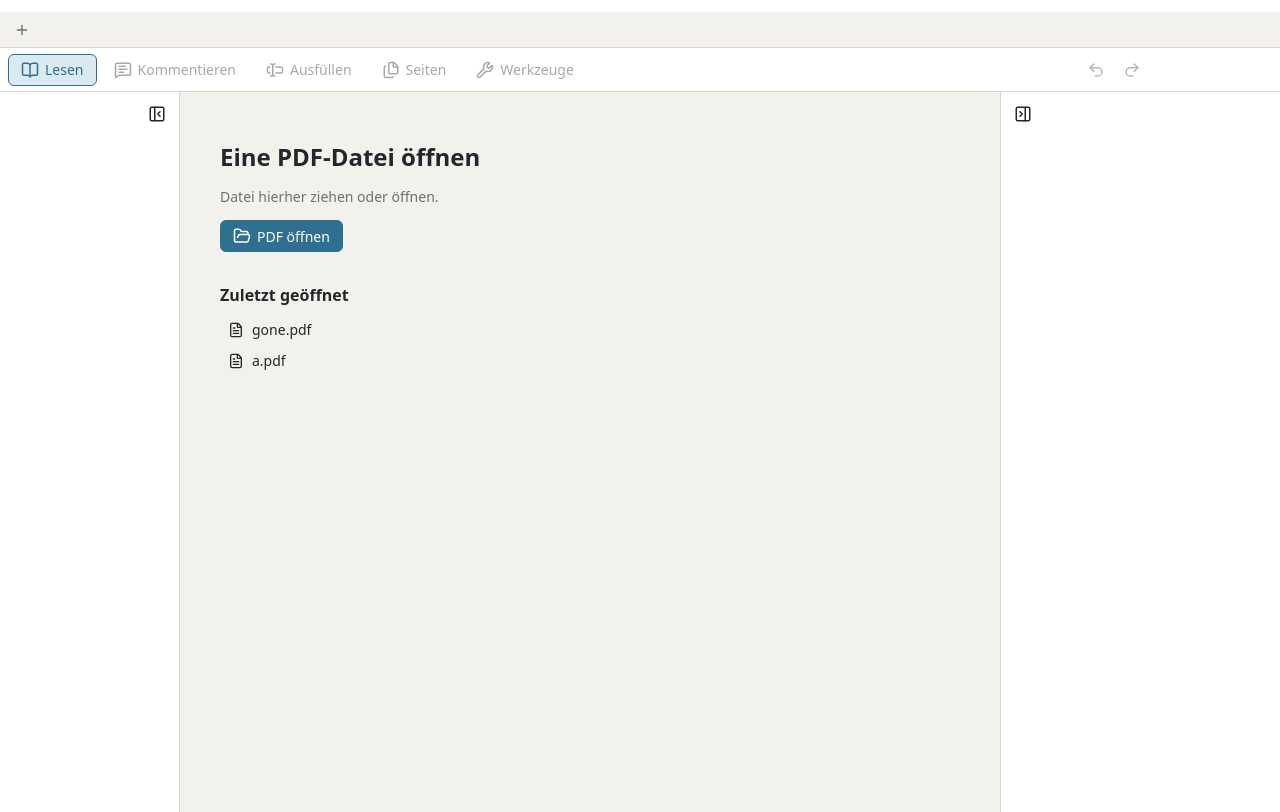
opening a missing file from the recent list removes it and shows errors.io
Click the button with test id "recent-item" showing "gone.pdf".
click(282, 330)  # box top-left (220, 314), bottom-right (860, 345)
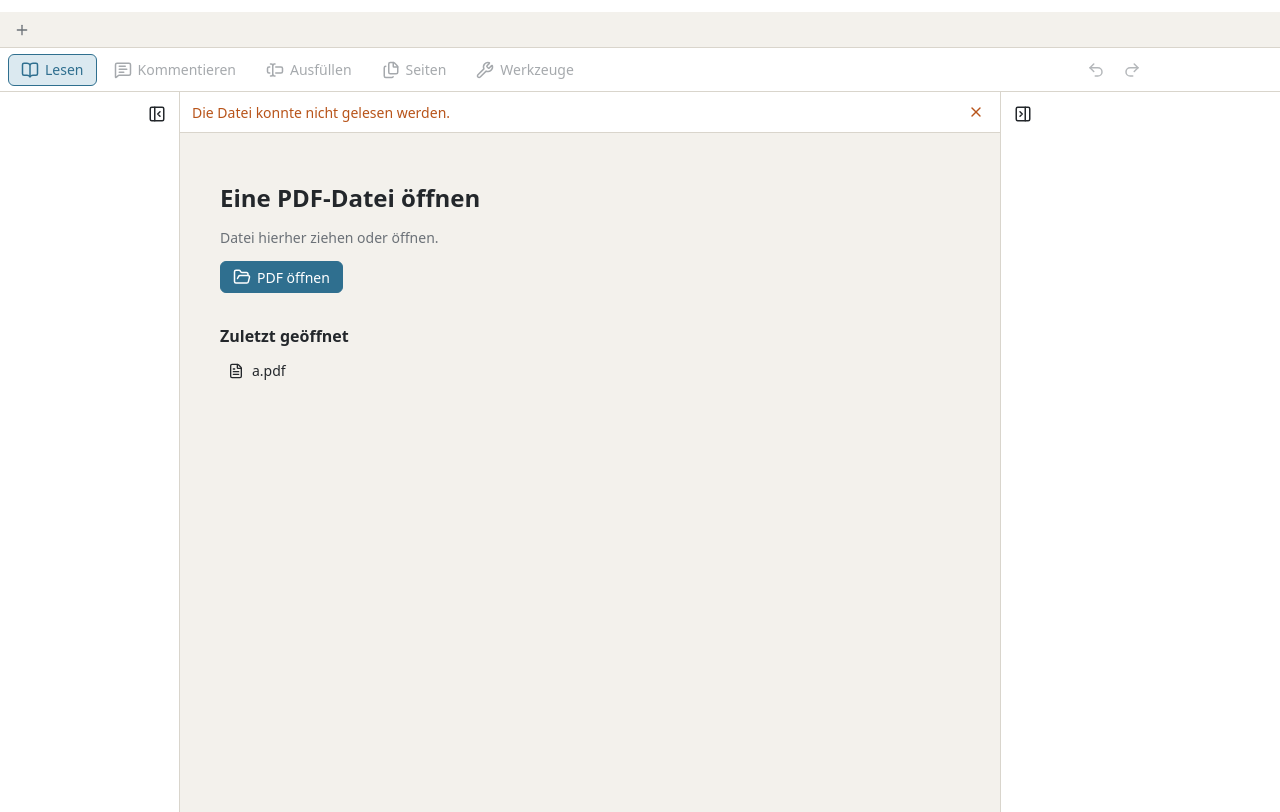
Now the message reads "Die Datei konnte nicht gelesen werden.", box top-left (192, 102), bottom-right (450, 122)
Now the elements with test id "recent-item" read "a.pdf", in this order, box top-left (220, 355), bottom-right (860, 386)
